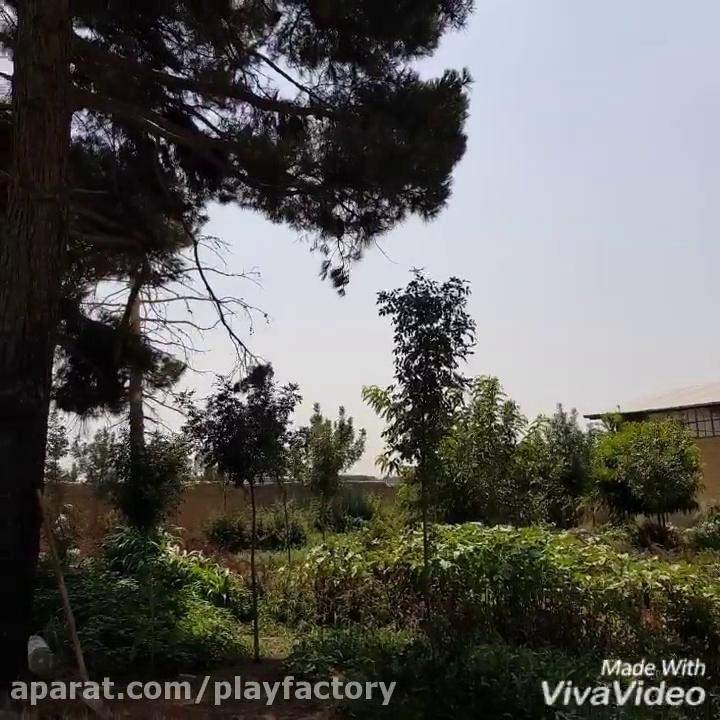drone: (403, 259, 427, 275)
